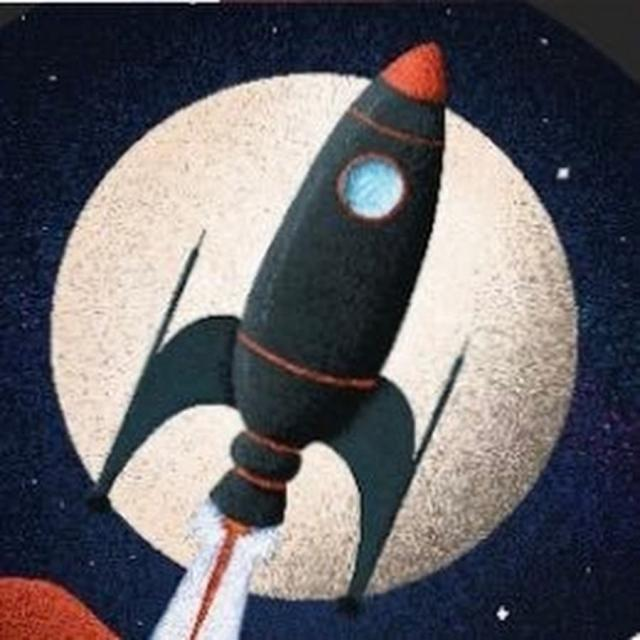rocket: (66, 29, 463, 620)
